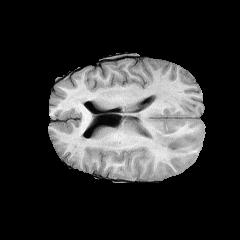glioma: (144, 78, 199, 166)
